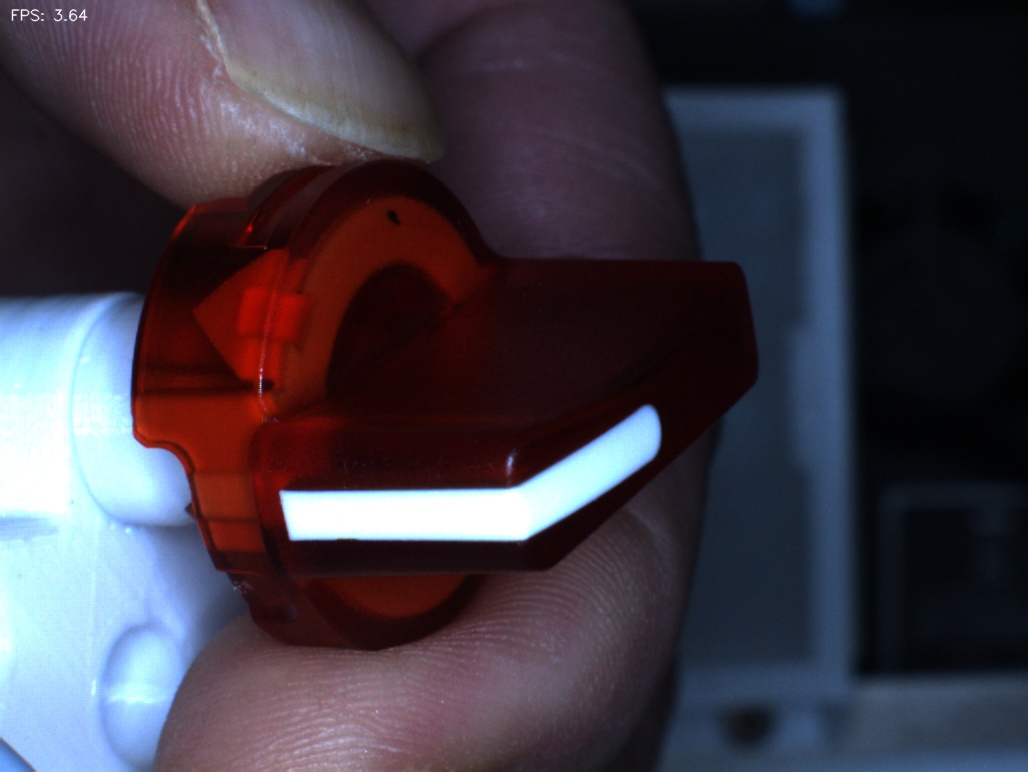PointNoir: (360, 180, 422, 252)
